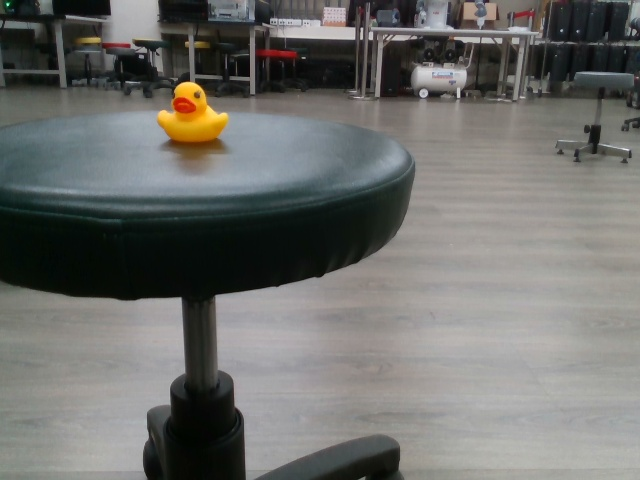duck: (154, 80, 233, 142)
